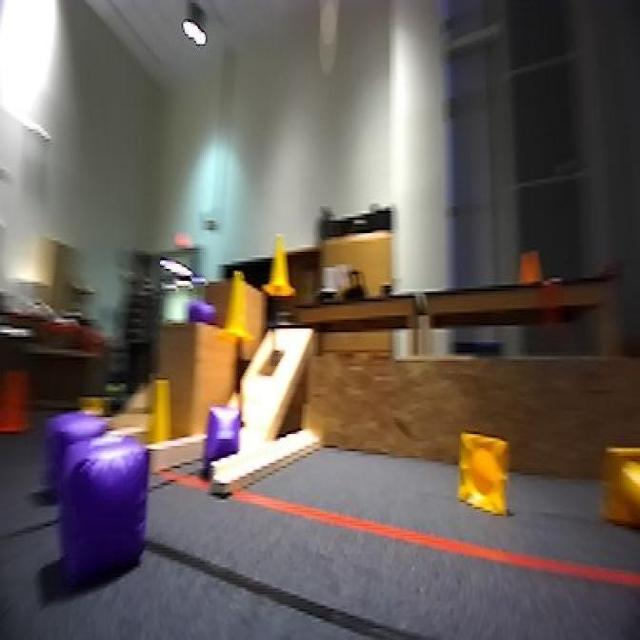frc_cone: (454, 422, 525, 529), (601, 446, 640, 529), (266, 223, 300, 296), (148, 371, 172, 436), (228, 288, 254, 342)
frc_cube: (73, 429, 163, 574), (45, 407, 103, 499), (174, 294, 228, 336), (208, 405, 248, 453)
